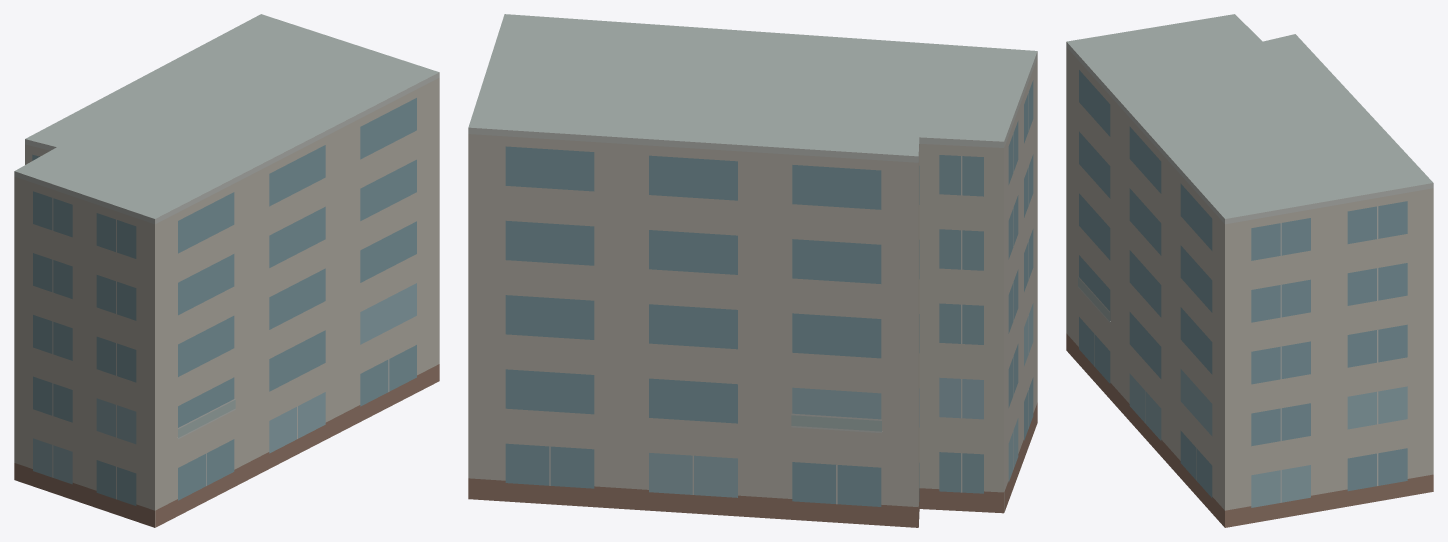
Rendered from survey-upis-32843244.glb.
The picture shows the model from 3 angles, left to right: view 1: azimuth 30°, elevation 25°; view 2: azimuth 150°, elevation 25°; view 3: azimuth 270°, elevation 25°; orthographic projection. The views are drawn at different scales.
Parts seen in each view (by area): view 1: survey-upis-32843244.tmp; view 2: survey-upis-32843244.tmp; view 3: survey-upis-32843244.tmp.
Boxes of the visible parts, <box> form: survey-upis-32843244.tmp: <box>14,14,439,527</box>; survey-upis-32843244.tmp: <box>468,14,1037,527</box>; survey-upis-32843244.tmp: <box>1066,14,1433,527</box>.
Size of the model in its own units: 20.23 by 14.2 by 15.31.
